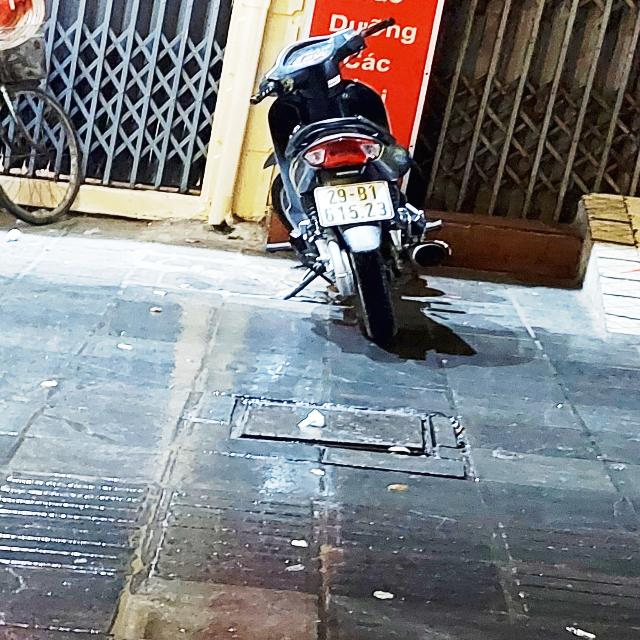license_plate: (310, 175, 398, 233)
